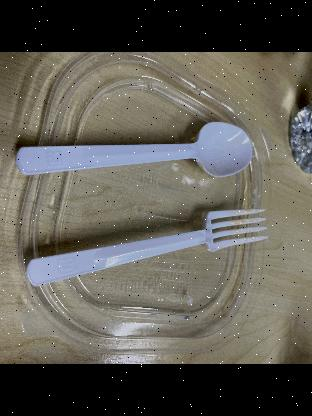Others: (23, 196, 270, 304), (12, 117, 264, 195)
